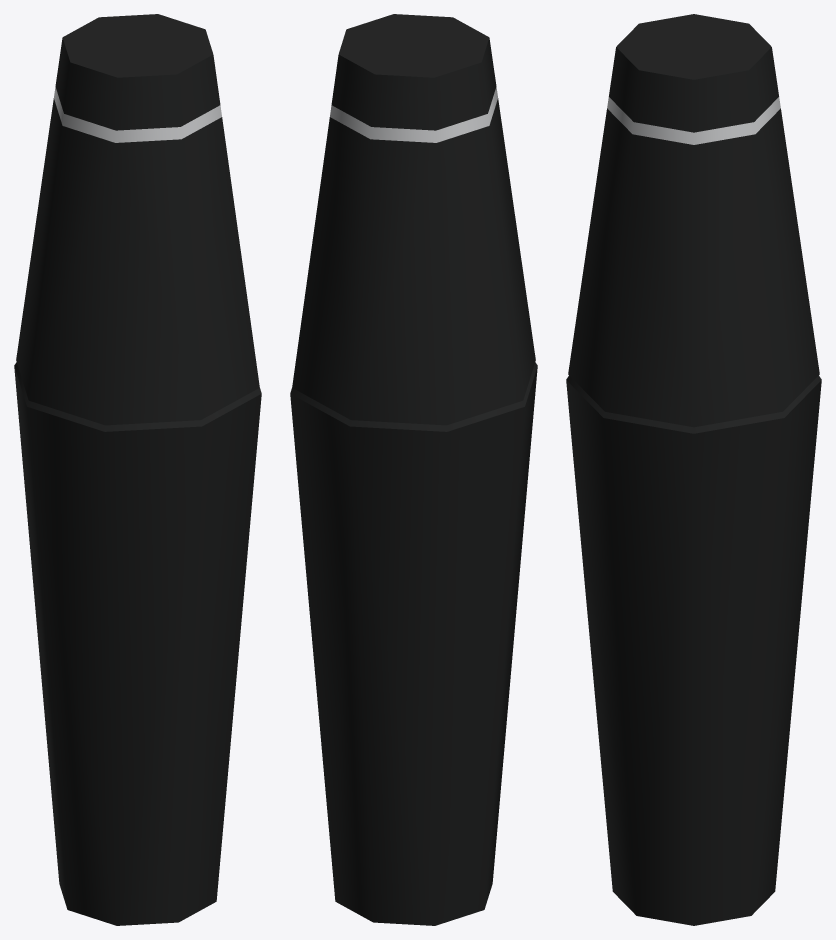
The model's file is Bottle Maskara.glb.
The picture shows the model from 3 angles, left to right: view 1: azimuth 30°, elevation 25°; view 2: azimuth 150°, elevation 25°; view 3: azimuth 270°, elevation 25°; orthographic projection.
Parts seen in each view (by area): view 1: bottle_maskara.001, bottle_maskara_spoole.001; view 2: bottle_maskara.001, bottle_maskara_spoole.001; view 3: bottle_maskara.001, bottle_maskara_spoole.001.
Part boxes in pixels (box(x1,y1,x2,y2)): bottle_maskara.001: box(14, 362, 261, 925); bottle_maskara_spoole.001: box(16, 14, 259, 425); bottle_maskara.001: box(290, 362, 537, 925); bottle_maskara_spoole.001: box(292, 14, 535, 425); bottle_maskara.001: box(566, 375, 821, 925); bottle_maskara_spoole.001: box(568, 14, 819, 427).
Size of the model in its own units: 5.33 by 19.43 by 5.33.
1 material, 1 textured.
